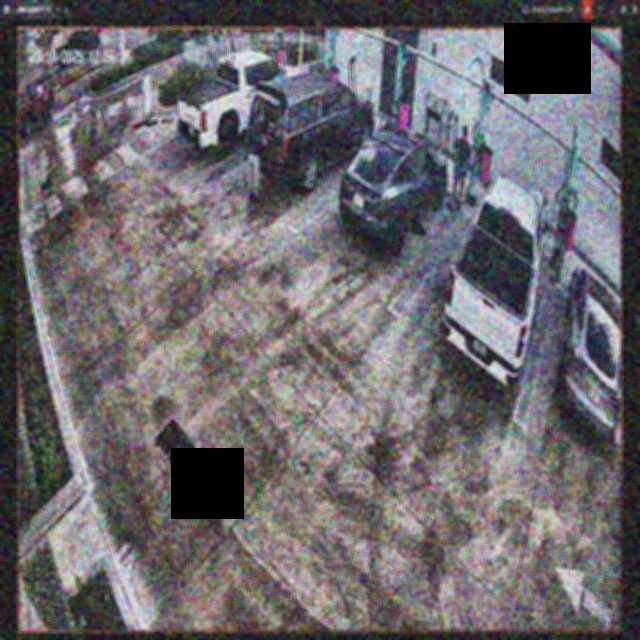Car: (442, 172, 548, 383), (249, 73, 373, 191), (341, 123, 448, 255), (176, 51, 302, 155)
